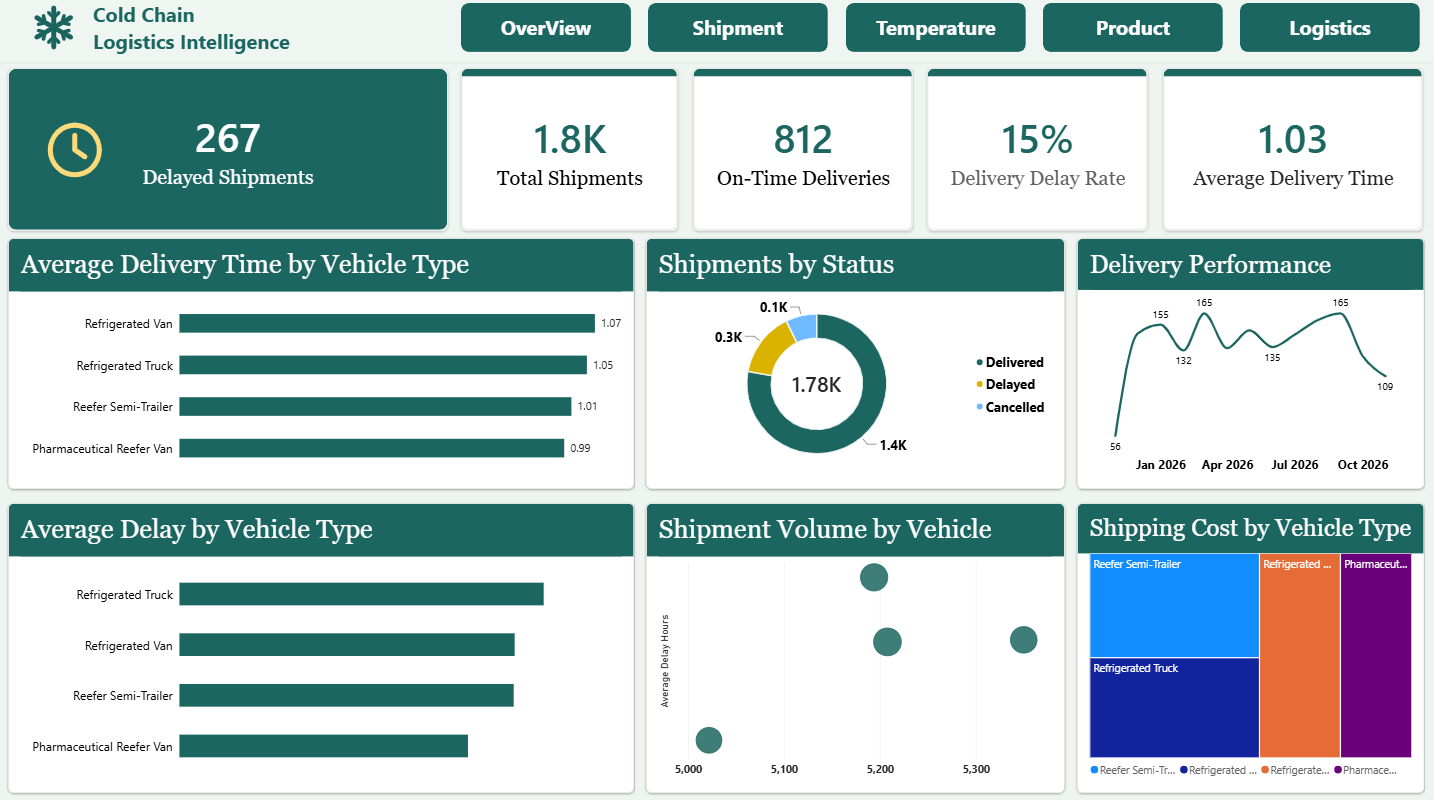

The dashboard page shown, as its layout file describes it:
{"tool":"powerbi","page":{"name":"Shipment Performance","canvas":[1920,1080],"ordinal":1},"visuals":[{"type":"cardVisual","fields":{"Data":["_Measures.On-Time Deliveries"]},"box":[931,98.4,292.6,216.8],"z":0},{"type":"cardVisual","fields":{"Data":["_Measures.Average Delivery Time"]},"box":[1556.2,98.4,345.8,216.8],"z":1000},{"type":"cardVisual","fields":{"Data":["_Measures.Delivery Delay Rate"]},"box":[1242.3,98.4,293.9,216.8],"z":2000},{"type":"cardVisual","fields":{"Data":["_Measures.Total Shipments"]},"box":[622.5,98.4,288.6,216.8],"z":3000},{"type":"clusteredBarChart","title":"Average Delivery Time by Vehicle Type","fields":{"Category":["vw_Delivery_Performance.Vehicle_Type"],"Y":["_Measures.Average Delivery Time"]},"box":[20,324.5,832.6,333.8],"z":4000},{"type":"donutChart","title":"Shipments by Status","fields":{"Category":["vw_Delivery_Performance.Status"],"Y":["CountNonNull(vw_Delivery_Performance.Shipment_ID)"]},"box":[868.5,324.5,557.3,333.8],"z":5000},{"type":"lineChart","title":"Delivery Performance ","fields":{"Category":["vw_Delivery_Performance.Shipment Month"],"Y":["CountNonNull(vw_Delivery_Performance.Shipment_ID)"]},"box":[1441.8,324.5,461.5,333.8],"z":6000},{"type":"clusteredBarChart","title":"Average Delay by Vehicle Type","fields":{"Category":["vw_Delivery_Performance.Vehicle_Type"],"Y":["Avg(vw_Delivery_Performance.Delay_Hours)"]},"box":[20,677,832.6,385.7],"z":7000},{"type":"cardVisual","fields":{"Data":["_Measures.Delayed Shipments"]},"box":[20,98.4,585.2,216.8],"z":8000},{"type":"scatterChart","title":"Shipment Volume by Vehicle","fields":{"Category":["vw_Delivery_Performance.Vehicle_Type"],"Size":["CountNonNull(vw_Delivery_Performance.Shipment_ID)"],"X":["_Measures.Average Shipping Cost"],"Y":["_Measures.Average Delay Hours"]},"box":[868.5,677,557.3,385.7],"z":9000},{"type":"treemap","title":"Shipping Cost by Vehicle Type","fields":{"Group":["vw_Delivery_Performance.Vehicle_Type"],"Values":["Sum(vw_Delivery_Performance.Shipping_Cost)"]},"box":[1442,677,462,386],"z":10000},{"type":"shape","box":[0,0,1920.6,90.4],"z":11000},{"type":"image","box":[63.8,153,90.4,109.1],"z":12000},{"type":"actionButton","box":[622.5,12,226.1,65.2],"z":13000},{"type":"actionButton","box":[871.5,12,239.4,65.2],"z":14000},{"type":"actionButton","box":[1133.9,12,239.4,65.2],"z":15000},{"type":"actionButton","box":[1396.2,12,239.4,65.2],"z":16000},{"type":"actionButton","box":[1658.6,12,239.4,65.2],"z":17000},{"type":"image","box":[41.2,12,78.5,65.2],"z":18000},{"type":"textbox","box":[133,8,445.6,90.4],"z":19000}]}

Visuals, with their boxes in screenshot pixels (x1, y1, x2, y2), scaled from the page's 1920x1080 canvas onto the 1434x800 screenshot:
cardVisual - _Measures.On-Time Deliveries: 695 73 914 233
cardVisual - _Measures.Average Delivery Time: 1162 73 1421 233
cardVisual - _Measures.Delivery Delay Rate: 928 73 1147 233
cardVisual - _Measures.Total Shipments: 465 73 680 233
"Average Delivery Time by Vehicle Type" clusteredBarChart: 15 240 637 488
"Shipments by Status" donutChart: 649 240 1065 488
"Delivery Performance " lineChart: 1077 240 1422 488
"Average Delay by Vehicle Type" clusteredBarChart: 15 501 637 787
cardVisual - _Measures.Delayed Shipments: 15 73 452 233
"Shipment Volume by Vehicle" scatterChart: 649 501 1065 787
"Shipping Cost by Vehicle Type" treemap: 1077 501 1422 787
shape: 0 0 1433 67
image: 48 113 115 194
actionButton: 465 9 634 57
actionButton: 651 9 830 57
actionButton: 847 9 1026 57
actionButton: 1043 9 1222 57
actionButton: 1239 9 1418 57
image: 31 9 89 57
textbox: 99 6 432 73
